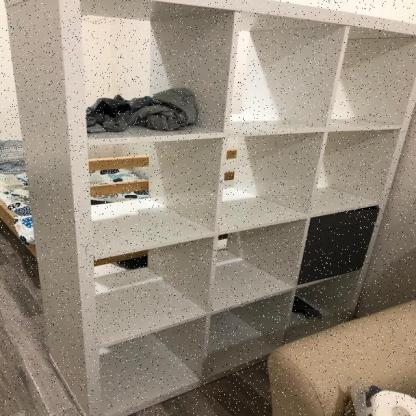Shelf: (1, 0, 416, 416)
